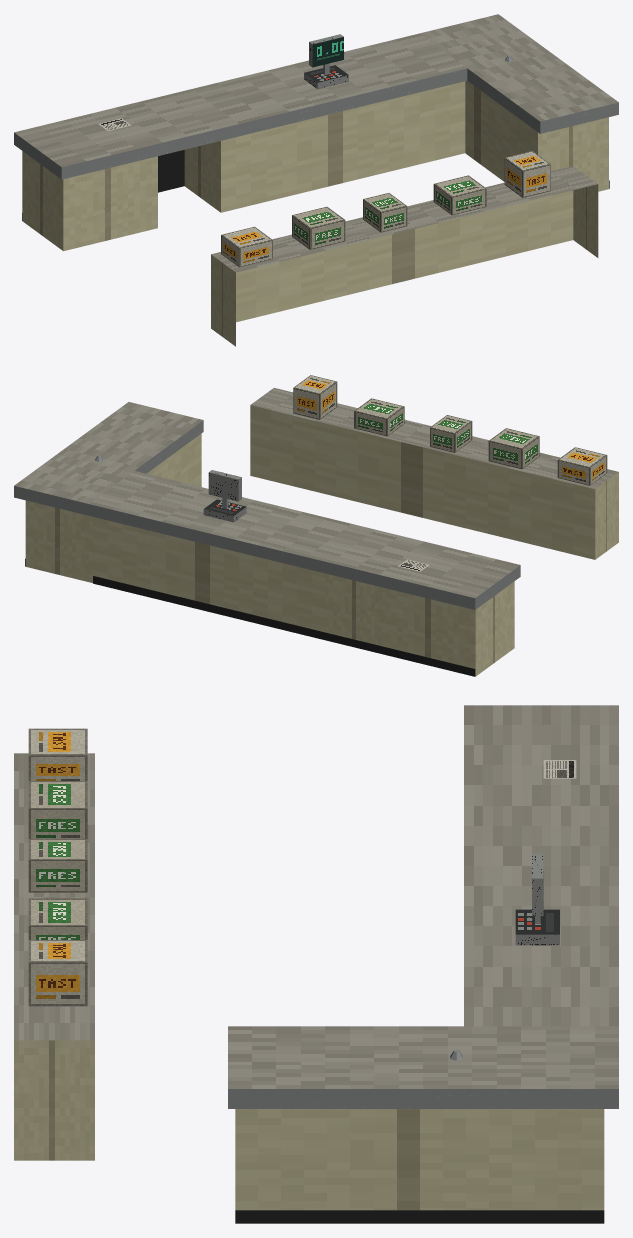
File: service_desk.glb
The picture shows the model from 3 angles, top to bottom: view 1: azimuth 30°, elevation 25°; view 2: azimuth 150°, elevation 25°; view 3: azimuth 270°, elevation 25°; orthographic projection. The views are drawn at different scales.
Visible parts, largest first — view 1: ServiceDesk; view 2: ServiceDesk; view 3: ServiceDesk.
Part boxes in pixels (x1,y1,x2,y2): ServiceDesk: [14, 14, 618, 346]; ServiceDesk: [14, 375, 618, 676]; ServiceDesk: [14, 705, 618, 1223].
Size of what is drawn, in the model's own units: 6.15 by 1.55 by 4.1.
1 material, 1 textured.
